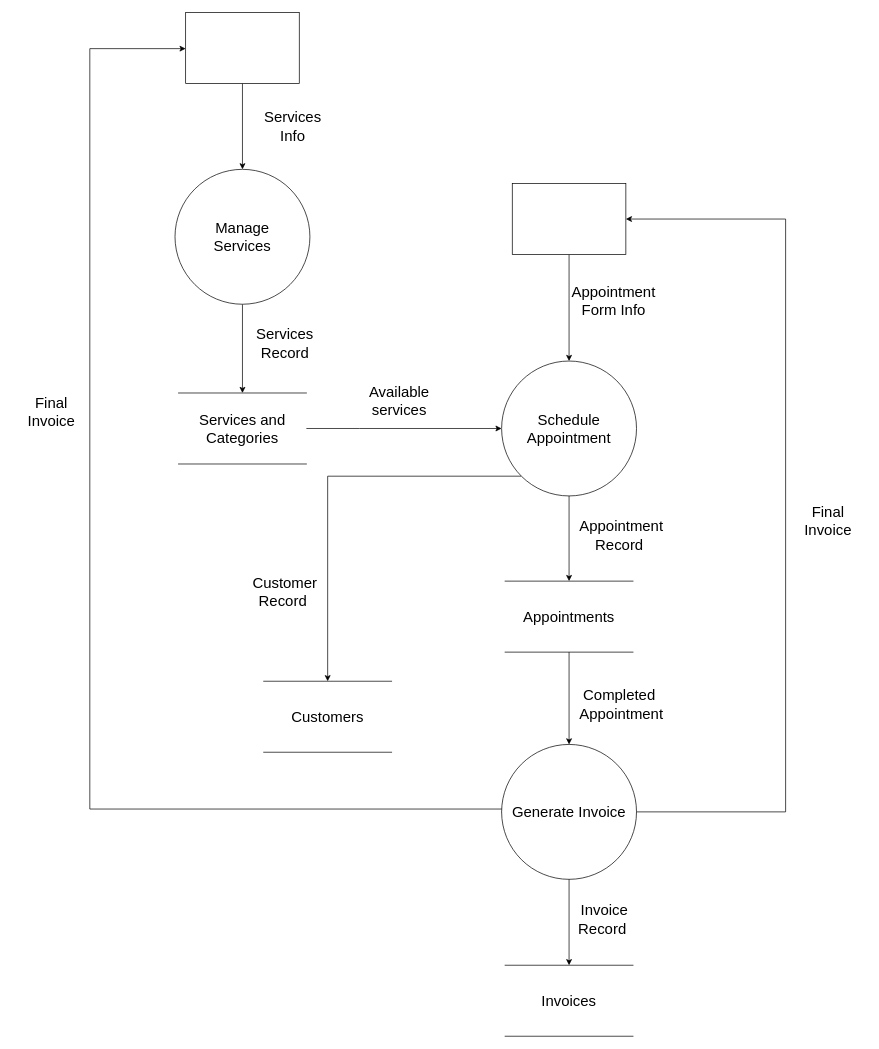
Image size: 879x1049. Some labels were removed from this diagram. Each missing label, with the centre of its shape:
"Admin" belongs at point 242,47.
"Customer" belongs at point 569,219.
